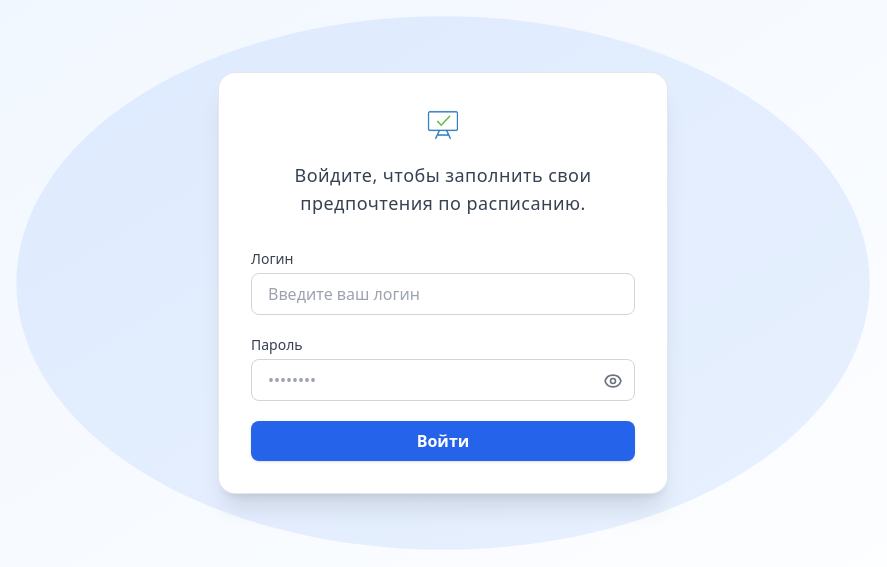
Test case: Login unit › validation 0
The image size is (887, 567).
Click the button "Войти".
click(443, 441)  # box [251,421,635,461]
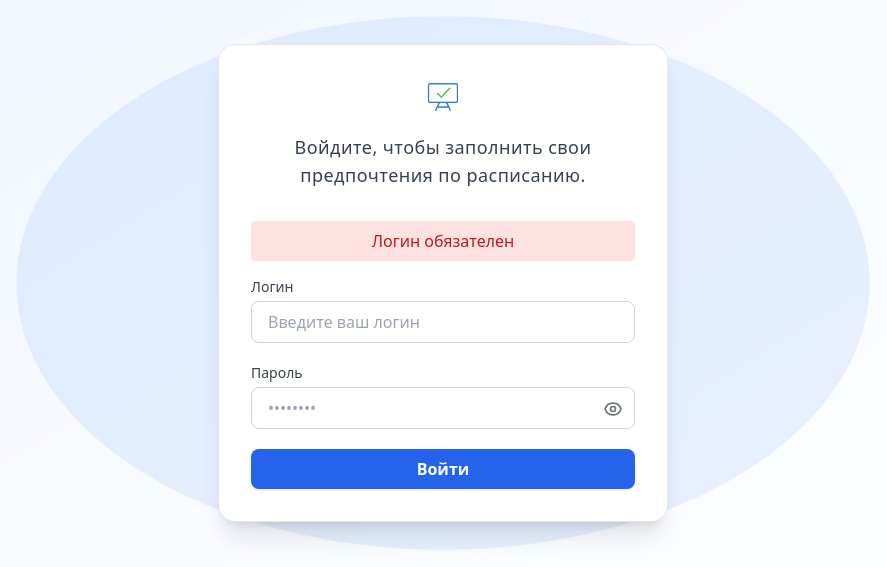
expect the text "Логин обязателен" is shown: met, box [251,221,635,261]
